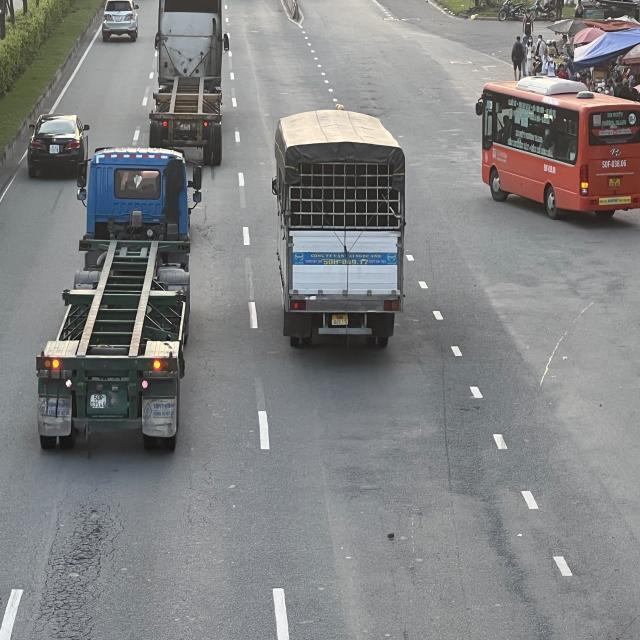car: (28, 115, 90, 177), (101, 0, 139, 43)
coach: (479, 75, 638, 218)
container: (39, 144, 203, 451), (150, 0, 232, 163)
truck: (277, 110, 412, 351)
